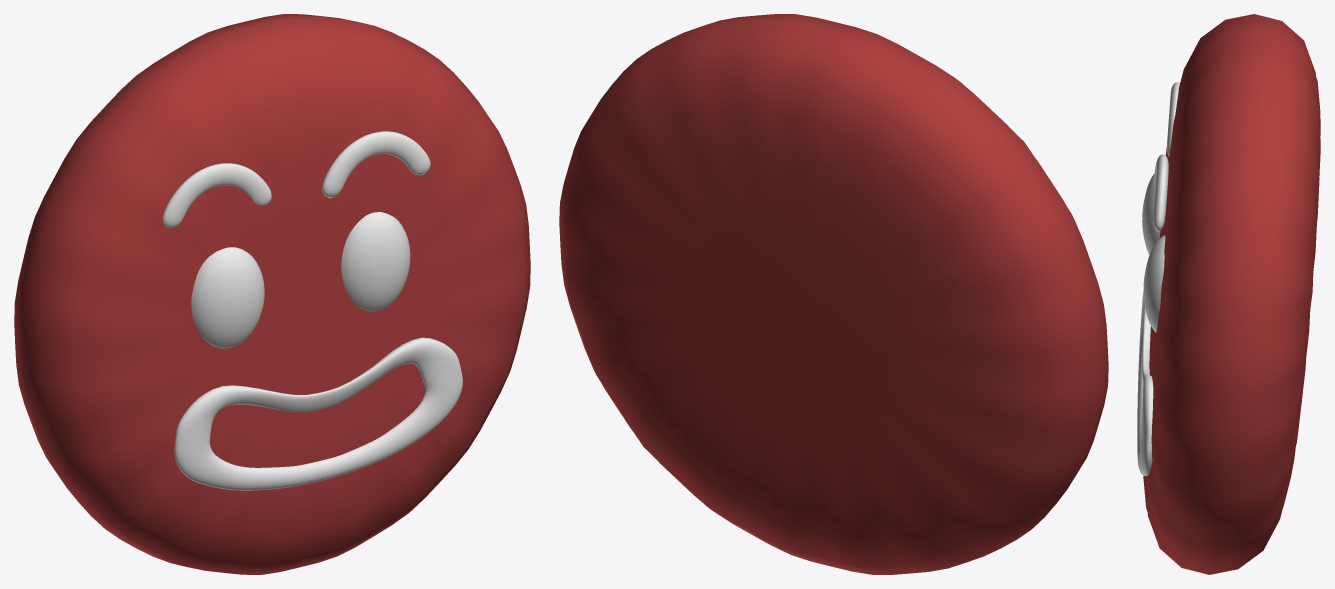
The picture shows the model from 3 angles, left to right: view 1: azimuth 30°, elevation 25°; view 2: azimuth 150°, elevation 25°; view 3: azimuth 270°, elevation 25°; orthographic projection. The views are drawn at different scales.
Parts seen in each view (by area): view 1: happy1; view 2: happy1; view 3: happy1.
Boxes of the visible parts, left/top/right/bottom form: happy1: left=14, top=14, right=530, bottom=574; happy1: left=559, top=14, right=1108, bottom=574; happy1: left=1137, top=14, right=1320, bottom=574.
Size of the model in its own units: 1.92 by 1.92 by 0.6292.
